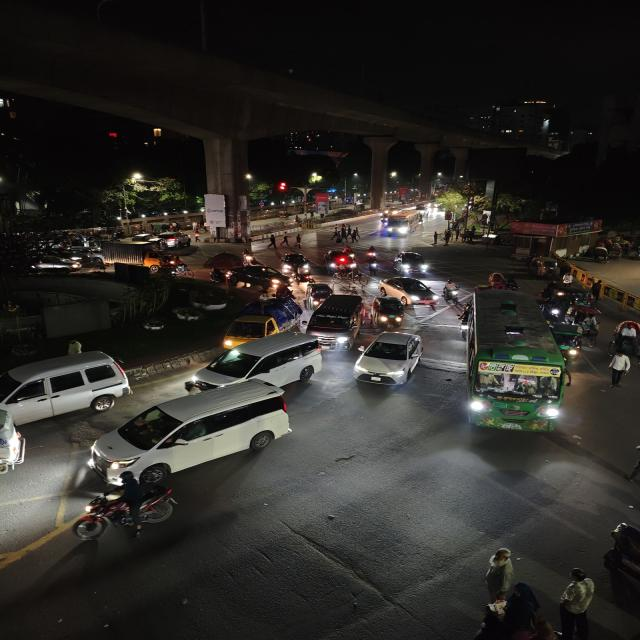bus: (462, 286, 569, 436), (379, 212, 423, 238)
car: (88, 379, 294, 483), (0, 349, 135, 425), (182, 331, 324, 395), (352, 329, 427, 389), (308, 294, 366, 344), (0, 398, 28, 478), (380, 276, 440, 308), (229, 264, 290, 293), (28, 248, 88, 272), (393, 249, 433, 276), (322, 246, 360, 274), (157, 232, 190, 248), (129, 232, 164, 244)
cng: (187, 280, 230, 312), (371, 295, 407, 329), (552, 322, 586, 358), (528, 254, 560, 278), (303, 282, 332, 306)
motorcycle: (72, 471, 182, 544), (441, 279, 462, 304), (363, 246, 382, 270), (240, 248, 259, 266)
pedestrian: (555, 565, 602, 639), (473, 545, 521, 605), (606, 349, 634, 388), (588, 278, 606, 304), (291, 232, 307, 248), (264, 233, 280, 249), (280, 230, 292, 246), (331, 231, 345, 244), (430, 230, 441, 246), (437, 230, 447, 246), (350, 230, 362, 242)
pickup_van: (221, 299, 302, 342)
rickshaw: (611, 318, 640, 348), (486, 271, 514, 289), (588, 245, 611, 263)
truck: (98, 240, 176, 270)
